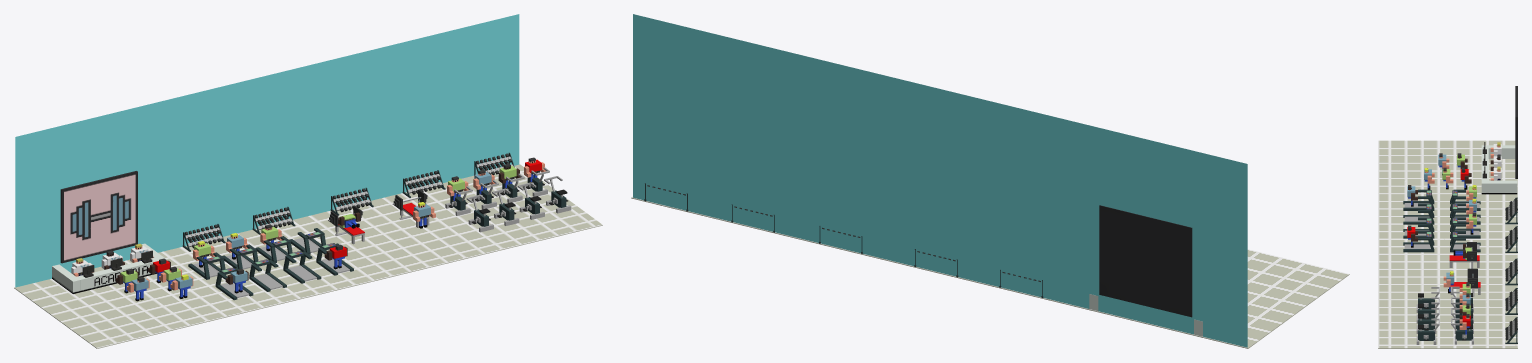
Rendered from Academia Completa.FBX.
3 renders of one model, left to right at view 1: azimuth 30°, elevation 25°; view 2: azimuth 150°, elevation 25°; view 3: azimuth 270°, elevation 25°, orthographic. The views are drawn at different scales.
Visible parts, largest first — view 1: Parede, Piso, Tela_01, Esteira_002, Esteira_01, Bicicleta_002, Bal_01, Bicicleta_01, Suporte_003, Suporte_004, Suporte_002, Suporte_01 (+3 smaller); view 2: Parede, Tela_01, Piso; view 3: Piso, Esteira_002, Esteira_01, Bicicleta_002, Bal_01, Bicicleta_01, Cadeira_01, Cadeira_002, Tela_01, Suporte_01, Suporte_003, Suporte_004 (+22 smaller).
Part boxes in pixels (bbox=[...]): Parede: bbox=[15, 14, 519, 287]; Piso: bbox=[14, 164, 602, 348]; Tela_01: bbox=[60, 171, 137, 263]; Esteira_002: bbox=[215, 243, 353, 300]; Esteira_01: bbox=[188, 228, 326, 279]; Bicicleta_002: bbox=[466, 176, 571, 232]; Bal_01: bbox=[52, 243, 166, 293]; Bicicleta_01: bbox=[445, 167, 549, 215]; Suporte_003: bbox=[330, 187, 373, 215]; Suporte_004: bbox=[402, 170, 445, 197]; Suporte_002: bbox=[252, 206, 295, 234]; Suporte_01: bbox=[182, 224, 225, 251]; Parede: bbox=[633, 14, 1247, 347]; Tela_01: bbox=[1099, 205, 1192, 317]; Piso: bbox=[631, 197, 1349, 348]; Piso: bbox=[1378, 140, 1517, 348]; Esteira_002: bbox=[1403, 189, 1434, 252]; Esteira_01: bbox=[1450, 189, 1480, 252]; Bicicleta_002: bbox=[1416, 287, 1439, 344]; Bal_01: bbox=[1481, 145, 1517, 194]; Bicicleta_01: bbox=[1451, 286, 1473, 344]; Cadeira_01: bbox=[1449, 242, 1479, 268]; Cadeira_002: bbox=[1450, 268, 1480, 296]; Tela_01: bbox=[1515, 86, 1517, 178]; Suporte_01: bbox=[1505, 197, 1517, 224]; Suporte_003: bbox=[1505, 258, 1517, 285]; Suporte_004: bbox=[1505, 288, 1517, 314].
Size of the model in its own units: 6844 by 1958 by 1947.
